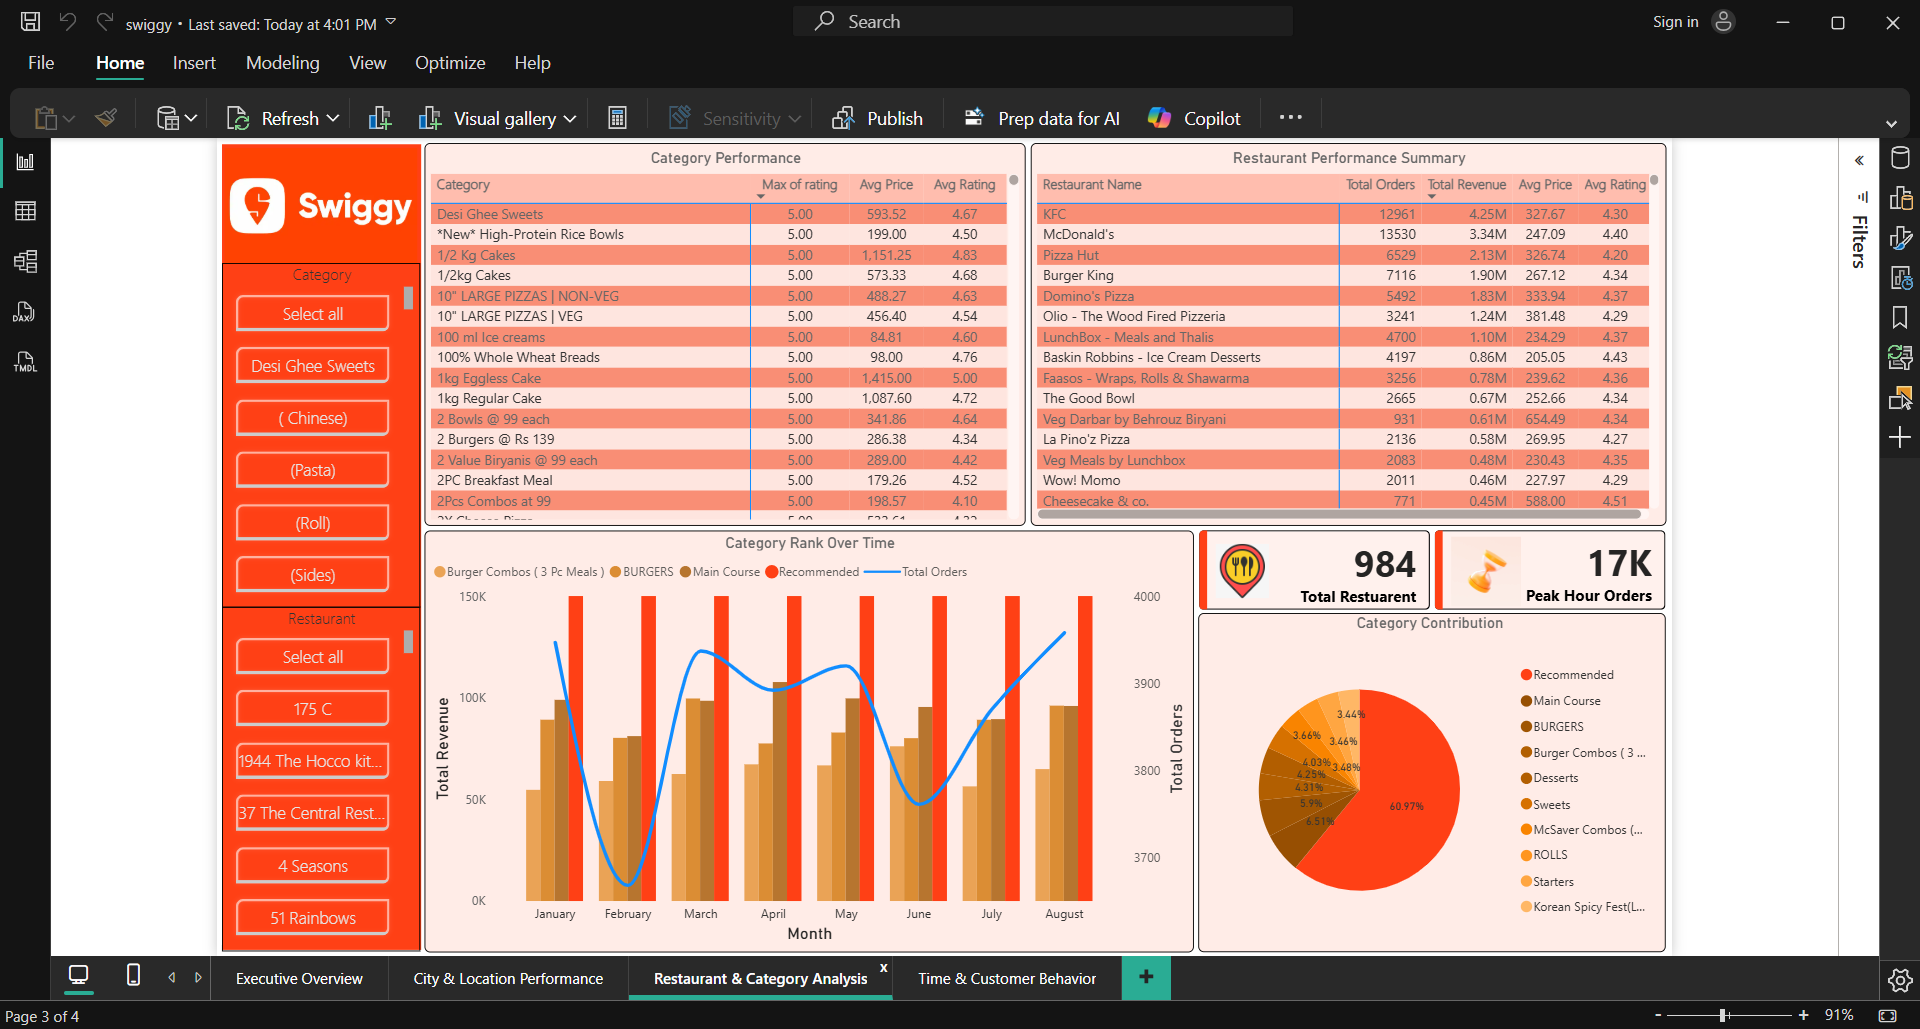

Layout of this report page (visuals, bound fields, positions):
{"tool":"powerbi","page":{"name":"Restaurant & Category Analysis","canvas":[1280,720],"ordinal":2},"visuals":[{"type":"shape","box":[4.3,5.8,175.4,708.7],"z":0},{"type":"image","box":[7,8.7,169.6,101.4],"z":1000},{"type":"listSlicer","title":"Category","fields":{"Values":["swiggy.category"]},"box":[4,109.6,174.6,303],"z":2000},{"type":"listSlicer","title":"Restaurant","fields":{"Values":["swiggy.restaurant_name"]},"box":[4,412.3,174,303.1],"z":3000},{"type":"lineClusteredColumnComboChart","title":"Category Rank Over Time ","fields":{"Category":["swiggy.order_date.Variation.Date Hierarchy.Month"],"Series":["swiggy.category"],"Y":["swiggy.Total Revenue"],"Y2":["swiggy.Total Orders"]},"box":[183,345,677,371],"z":4000},{"type":"pivotTable","title":"Category Performance","fields":{"Values":["swiggy.rating","swiggy.Avg Price","swiggy.Avg Rating"],"Rows":["swiggy.category"]},"box":[183,4.9,529,337],"z":5000},{"type":"donutChart","title":"Category Contribution","fields":{"Category":["swiggy.category"],"Y":["swiggy.Total Revenue"]},"box":[863,418,411,298],"z":6000},{"type":"pivotTable","title":"Restaurant Performance Summary","fields":{"Rows":["swiggy.restaurant_name"],"Values":["swiggy.Total Orders","swiggy.Total Revenue","swiggy.Avg Price","swiggy.Avg Rating"]},"box":[716,4.9,559,337],"z":7000},{"type":"cardVisual","fields":{"Data":["swiggy.restaurant_name","swiggy.Peak Hour Orders"]},"box":[863,344,413,72],"z":8000}]}

Visuals, with their boxes on the page's 1280x720 design canvas (x1, y1, x2, y2). These are canvas units, not pixel positions in the 1920x1029 screenshot, which may show the page scaled, cropped or inside an application window:
shape: bbox(4, 6, 180, 714)
image: bbox(7, 9, 177, 110)
"Category" listSlicer: bbox(4, 110, 179, 413)
"Restaurant" listSlicer: bbox(4, 412, 178, 715)
"Category Rank Over Time " lineClusteredColumnComboChart: bbox(183, 345, 860, 716)
"Category Performance" pivotTable: bbox(183, 5, 712, 342)
"Category Contribution" donutChart: bbox(863, 418, 1274, 716)
"Restaurant Performance Summary" pivotTable: bbox(716, 5, 1275, 342)
cardVisual - swiggy.restaurant_name x swiggy.Peak Hour Orders: bbox(863, 344, 1276, 416)
